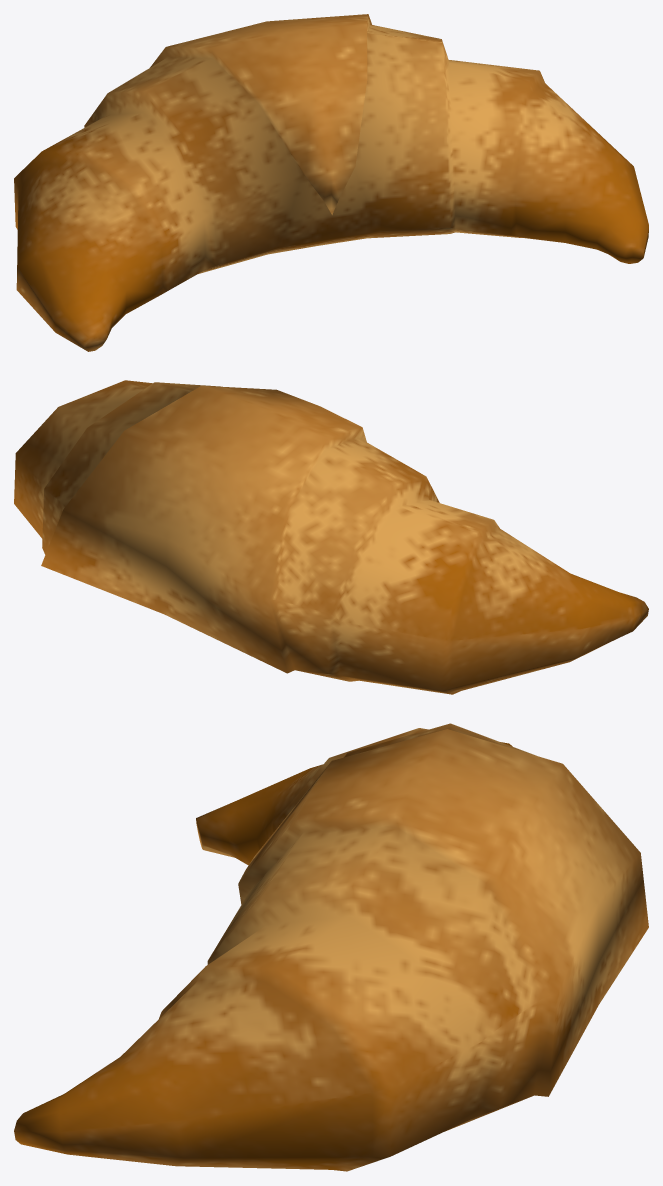
File: Croissant.fbx
3 renders of one model, top to bottom at view 1: azimuth 30°, elevation 25°; view 2: azimuth 150°, elevation 25°; view 3: azimuth 270°, elevation 25°, orthographic. The views are drawn at different scales.
Visible parts, largest first — view 1: pain_et_viennoiseries_low.001; view 2: pain_et_viennoiseries_low.001; view 3: pain_et_viennoiseries_low.001.
Boxes of the visible parts, left/top/right/bottom form: pain_et_viennoiseries_low.001: left=14, top=14, right=648, bottom=351; pain_et_viennoiseries_low.001: left=14, top=380, right=648, bottom=694; pain_et_viennoiseries_low.001: left=14, top=723, right=648, bottom=1171.
Size of the model in its own units: 81.8 by 29.1 by 58.83.
